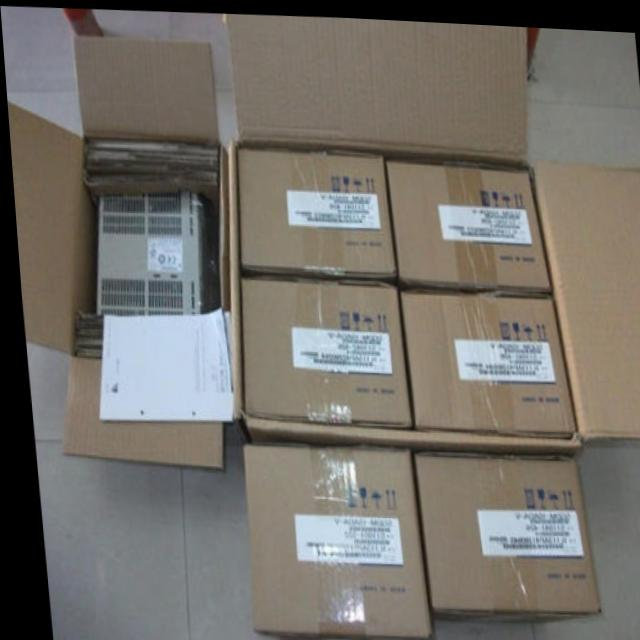box: (235, 445, 425, 640), (408, 451, 591, 615), (236, 269, 405, 424), (397, 283, 571, 425), (383, 157, 547, 285), (234, 142, 392, 274)
